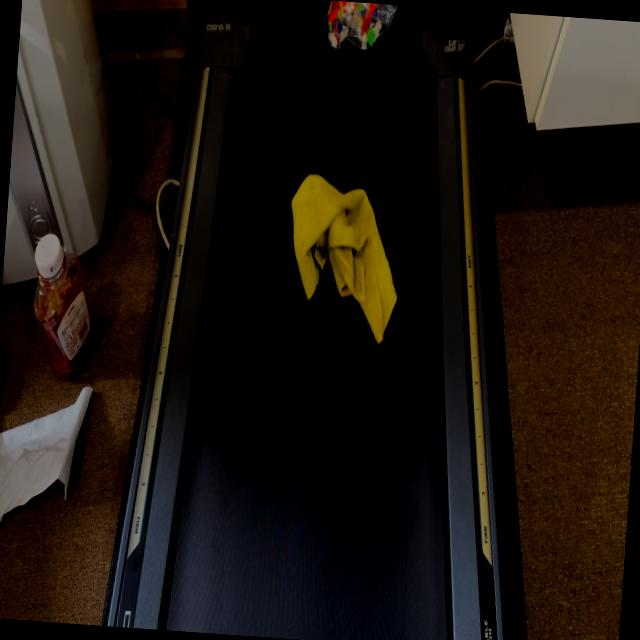Trash: (280, 170, 406, 343), (319, 0, 399, 63)
